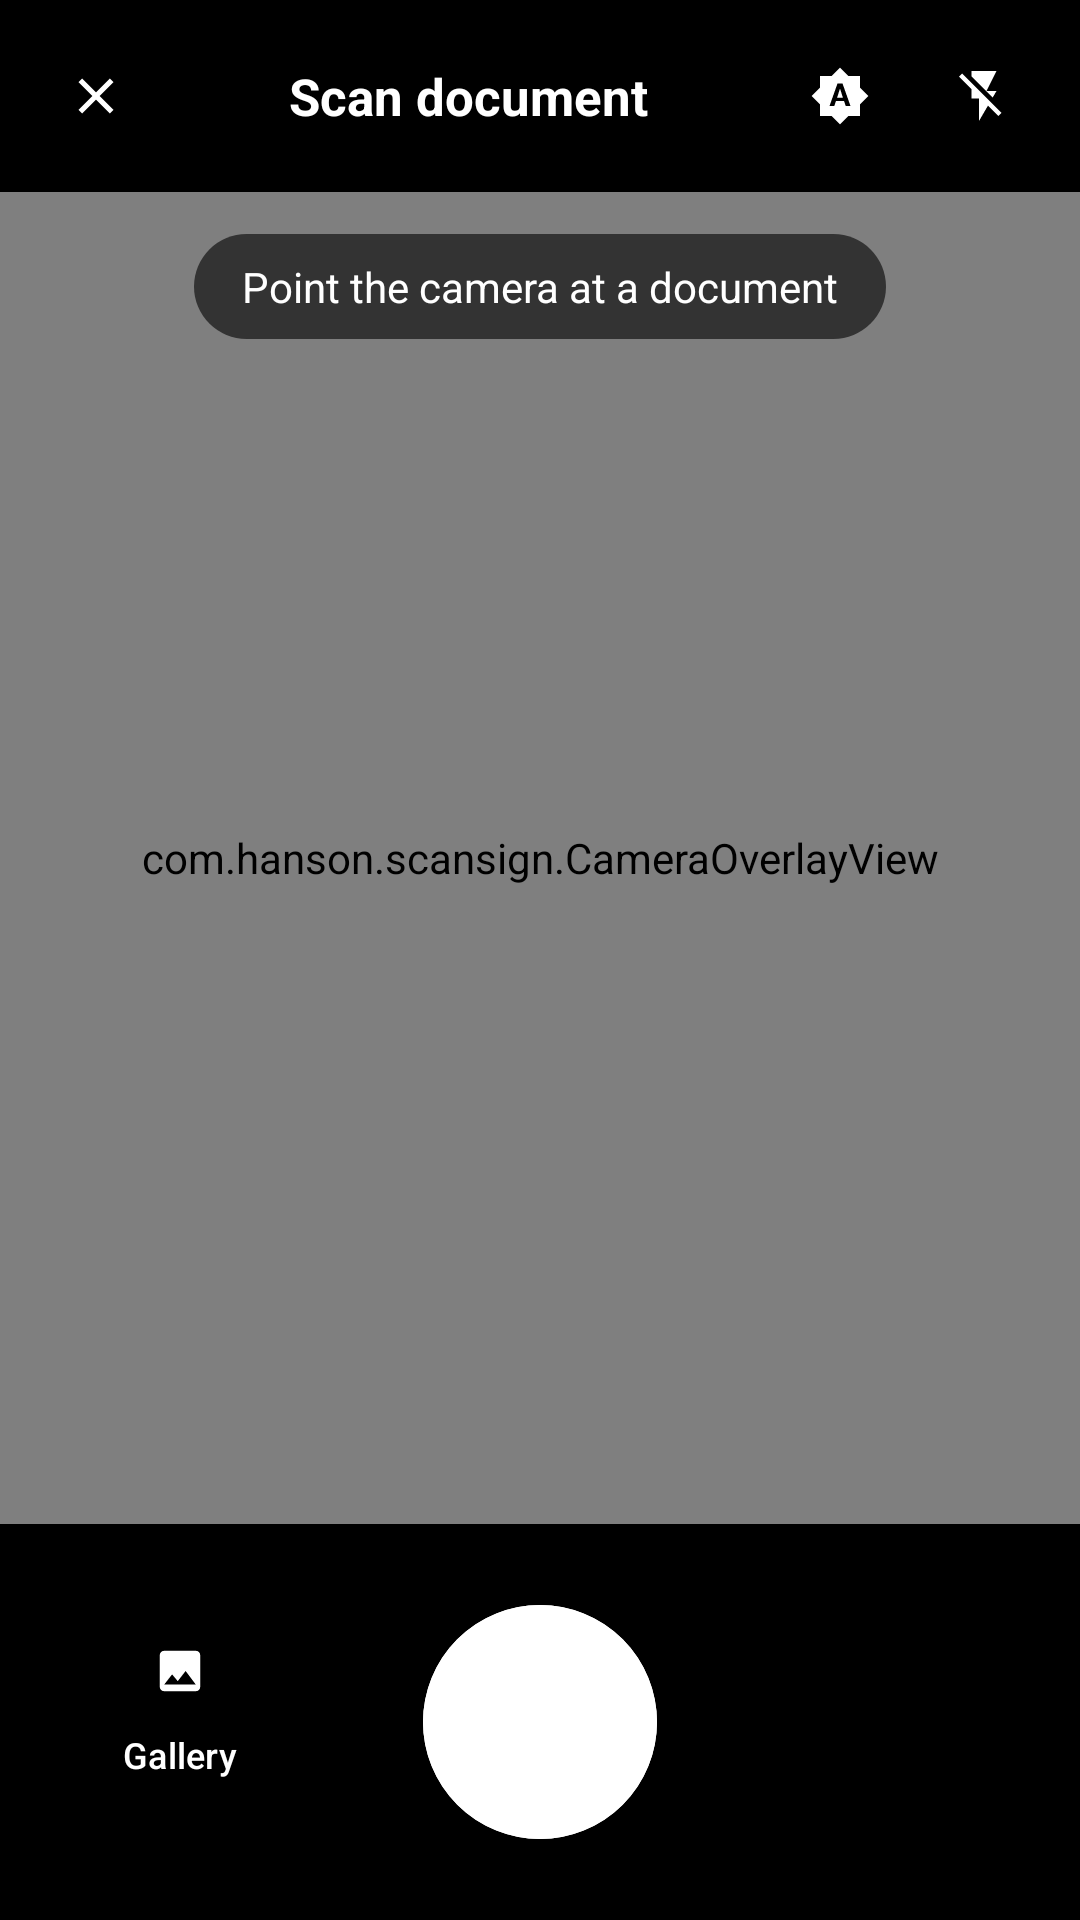

Icons on this 1080 x 1920 Android screen, each with its box as [x1,y1,x2,y2]:
Auto capture: [812,68,868,124]
Close: [78,78,114,114]
Flash: [959,71,1002,121]
